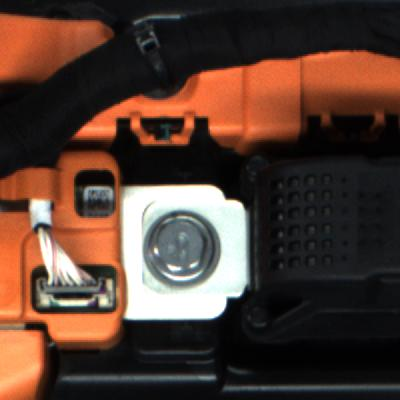nut_b: (141, 202, 222, 289)
